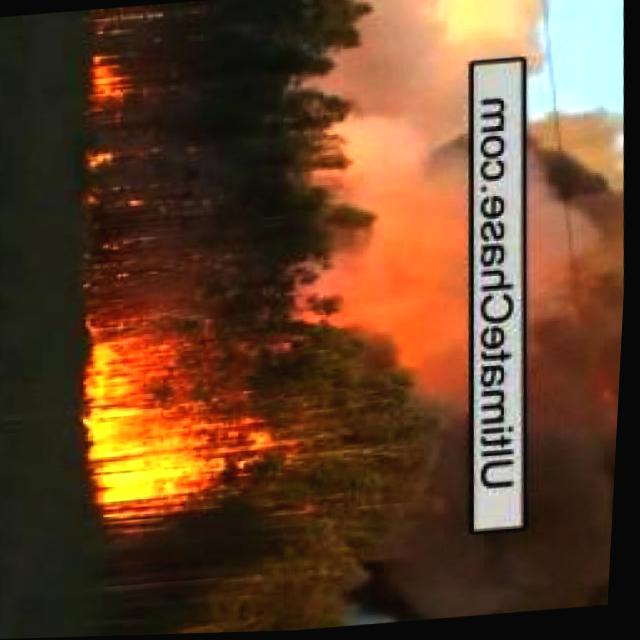Smoke: (281, 0, 499, 632), (513, 106, 635, 614), (82, 314, 272, 529), (88, 142, 137, 212), (84, 47, 134, 103)
